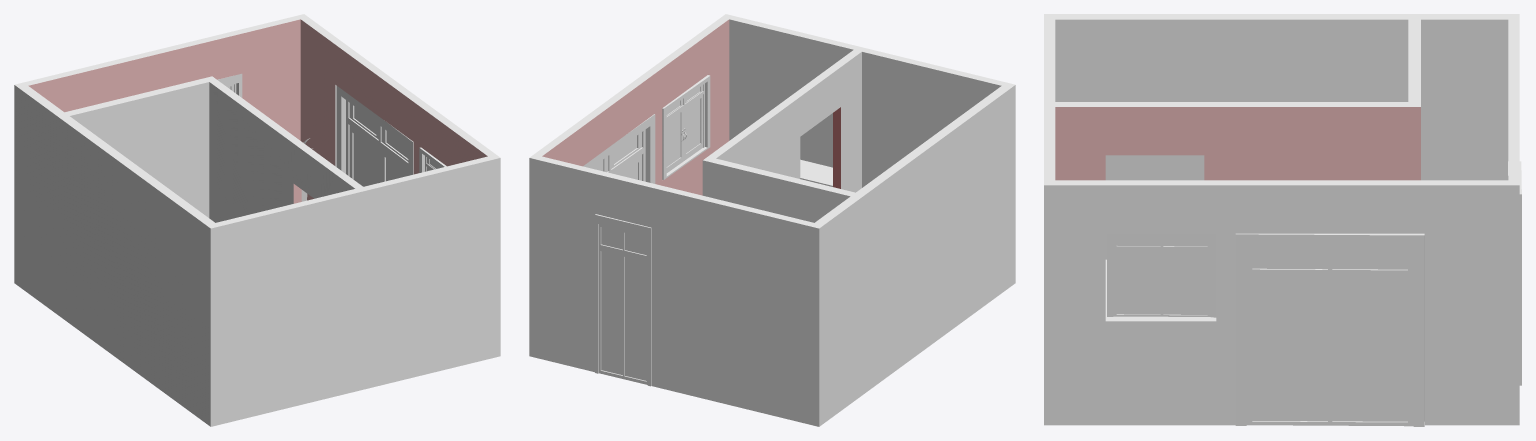
The model's file is wall.fbx.
3 renders of one model, left to right at view 1: azimuth 30°, elevation 25°; view 2: azimuth 150°, elevation 25°; view 3: azimuth 270°, elevation 25°, orthographic. The views are drawn at different scales.
Visible parts, largest first — view 1: Layer0_001, Door_Glass_French_6-0_001; view 2: Layer0_001, Door_Glass_French_6-0_003, Door_Glass_French_6-0_005, Door_Glass_French_6-0_001; view 3: Layer0_001, Door_Glass_French_6-0_001, Door_Glass_French_6-0_005, Door_Glass_French_6-0_003.
Part boxes in pixels (box(x1,y1,x2,y2)): Layer0_001: box(14, 14, 500, 426); Door_Glass_French_6-0_001: box(336, 86, 413, 186); Layer0_001: box(529, 14, 1015, 426); Door_Glass_French_6-0_003: box(595, 214, 651, 386); Door_Glass_French_6-0_005: box(662, 75, 710, 179); Door_Glass_French_6-0_001: box(583, 114, 655, 183); Layer0_001: box(1044, 14, 1519, 425); Door_Glass_French_6-0_001: box(1235, 233, 1424, 426); Door_Glass_French_6-0_005: box(1107, 233, 1216, 317); Door_Glass_French_6-0_003: box(1508, 161, 1521, 385).
Size of the model in its own units: 4063 by 2631 by 4744.
